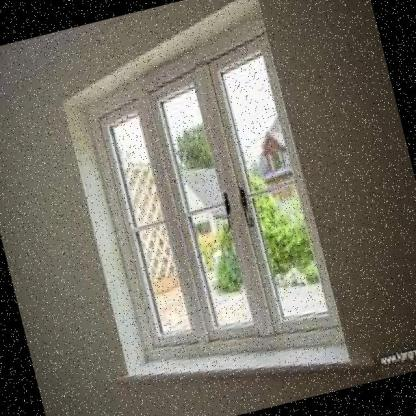Window: (73, 14, 351, 400)
